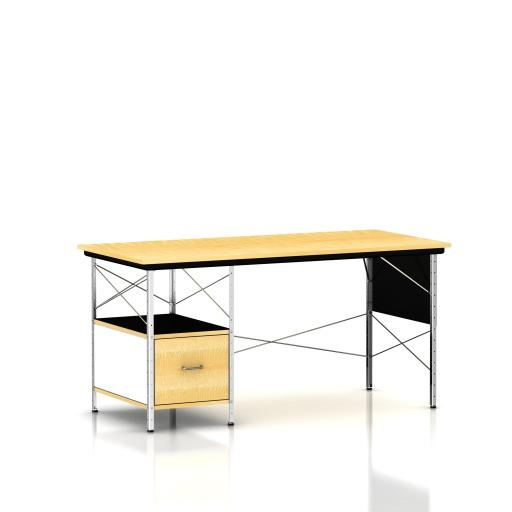desk: (77, 229, 452, 433)
